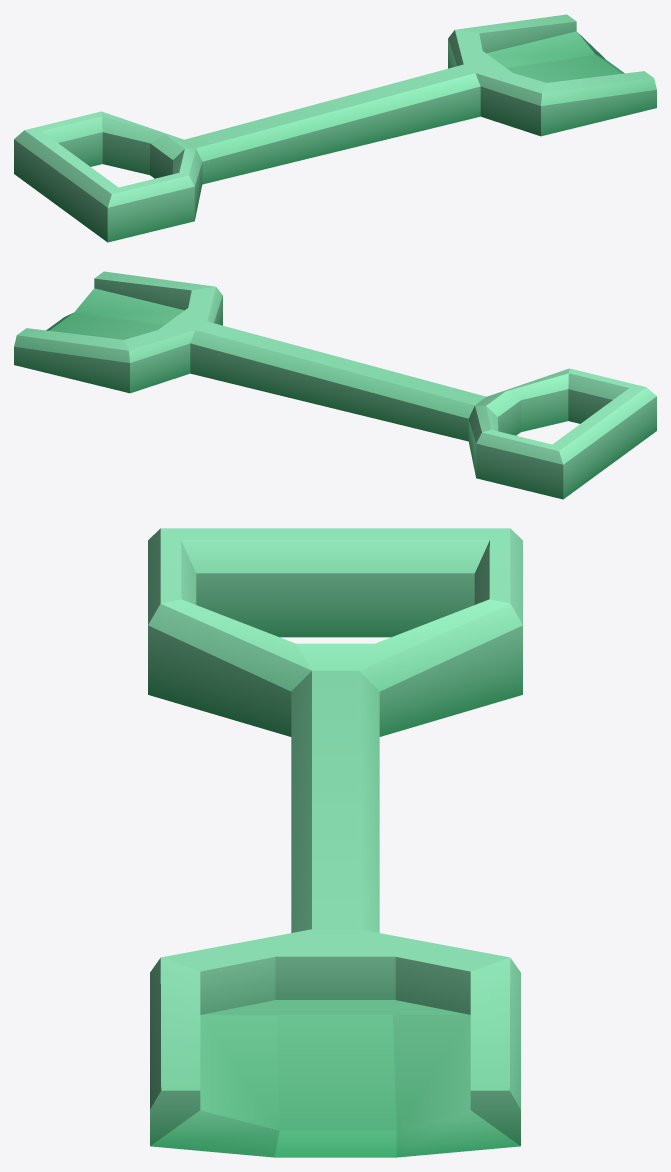
Rendered from pala.fbx.
3 renders of one model, top to bottom at view 1: azimuth 30°, elevation 25°; view 2: azimuth 150°, elevation 25°; view 3: azimuth 270°, elevation 25°, orthographic. The views are drawn at different scales.
Visible parts, largest first — view 1: pala; view 2: pala; view 3: pala.
Part boxes in pixels (x1=…): pala: x1=14, y1=14, x2=656, y2=242; pala: x1=14, y1=271, x2=656, y2=499; pala: x1=148, y1=528, x2=522, y2=1157.
Size of the model in its own units: 64.86 by 4.89 by 18.76.
Materials: 1 (1 with a texture image).
